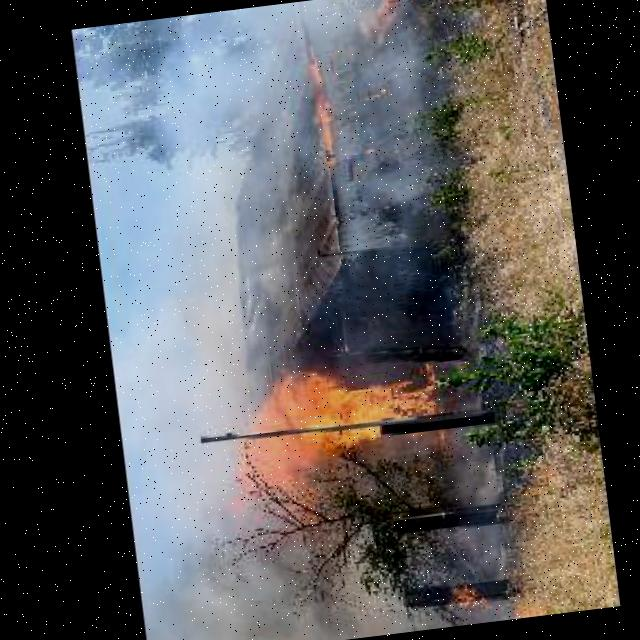fire: (213, 343, 451, 525), (293, 53, 335, 178), (342, 0, 419, 42), (439, 575, 500, 627)
